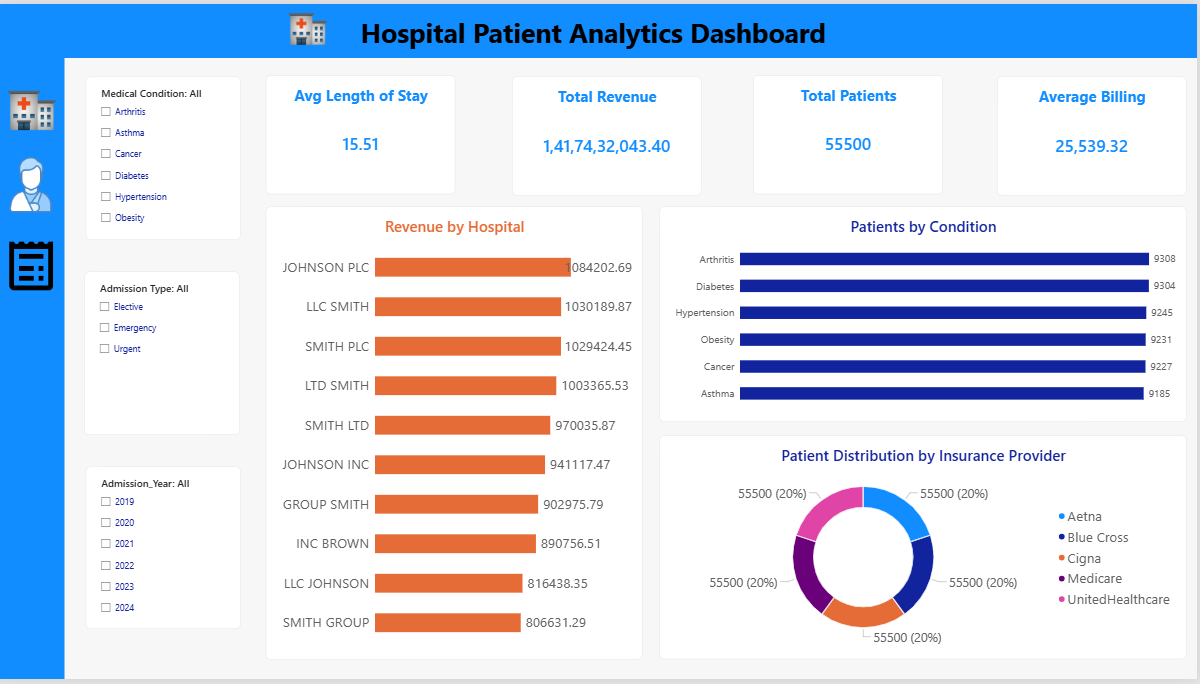

The page's visual inventory and layout, read from the dashboard file:
{"tool":"powerbi","page":{"name":"Hospital Patient Analytics Dashboard ","canvas":[1920,1080],"ordinal":0},"visuals":[{"type":"card","title":"Total Patients","fields":{"Values":["CountNonNull(healthcare_dataset.Patient_ID)"]},"box":[1210,114.7,303.3,190],"z":0},{"type":"card","title":"Total Revenue","fields":{"Values":["Sum(healthcare_dataset.Billing_Amount_Fixed)"]},"box":[823.3,115,303.3,190],"z":1000},{"type":"card","title":"Average Billing","fields":{"Values":["Avg(healthcare_dataset.Billing_Amount_Fixed)"]},"box":[1600,115,303.3,190],"z":2000},{"type":"card","title":"Avg Length of Stay ","fields":{"Values":["Avg(healthcare_dataset.Length_of_Stay_Days )"]},"box":[430,114.3,303.3,190],"z":3000},{"type":"barChart","title":"Patients by Condition","fields":{"Category":["healthcare_dataset.Medical Condition"],"Y":["CountNonNull(healthcare_dataset.Patient_ID)"]},"box":[1060,323.3,843.3,345],"z":4000},{"type":"barChart","title":"Revenue by Hospital","fields":{"Category":["Hospital_Summary.Hospital"],"Y":["Sum(Hospital_Summary.Total_Revenue )"]},"box":[430,323.3,603.3,725],"z":5000},{"type":"donutChart","title":"Patient Distribution by Insurance Provider","fields":{"Category":["healthcare_dataset.Insurance Provider"],"Y":["Sum(Insurance_Summary.Covered_Patients )"]},"box":[1060,690,843.3,358.3],"z":6000},{"type":"slicer","fields":{"Values":["healthcare_dataset.Admission Type"]},"box":[140,427.5,248.3,261.7],"z":7000},{"type":"slicer","fields":{"Values":["healthcare_dataset.Medical Condition"]},"box":[141.7,115,248.3,261.7],"z":8000},{"type":"shape","box":[0,0,1920,86.7],"z":9000},{"type":"slicer","fields":{"Values":["healthcare_dataset.Admission_Year"]},"box":[141.7,740,248.3,260],"z":10000},{"type":"textbox","box":[568.3,16.7,783.3,70],"z":11000},{"type":"shape","box":[0,0,108.3,1080],"z":12000},{"type":"image","box":[8.3,101.7,93.3,130],"z":13000},{"type":"image","box":[8.3,223.3,93.3,130],"z":14000},{"type":"image","box":[8.3,353.3,93.3,130],"z":15000},{"type":"image","box":[430,0,133.3,75],"z":16000}]}

Visuals, with their boxes on the page's 1920x1080 design canvas (x1, y1, x2, y2). These are canvas units, not pixel positions in the 1200x684 screenshot, which may show the page scaled, cropped or inside an application window:
"Total Patients" card: bbox(1210, 115, 1513, 305)
"Total Revenue" card: bbox(823, 115, 1127, 305)
"Average Billing" card: bbox(1600, 115, 1903, 305)
"Avg Length of Stay " card: bbox(430, 114, 733, 304)
"Patients by Condition" barChart: bbox(1060, 323, 1903, 668)
"Revenue by Hospital" barChart: bbox(430, 323, 1033, 1048)
"Patient Distribution by Insurance Provider" donutChart: bbox(1060, 690, 1903, 1048)
slicer - healthcare_dataset.Admission Type: bbox(140, 428, 388, 689)
slicer - healthcare_dataset.Medical Condition: bbox(142, 115, 390, 377)
shape: bbox(0, 0, 1920, 87)
slicer - healthcare_dataset.Admission_Year: bbox(142, 740, 390, 1000)
textbox: bbox(568, 17, 1352, 87)
shape: bbox(0, 0, 108, 1080)
image: bbox(8, 102, 102, 232)
image: bbox(8, 223, 102, 353)
image: bbox(8, 353, 102, 483)
image: bbox(430, 0, 563, 75)
